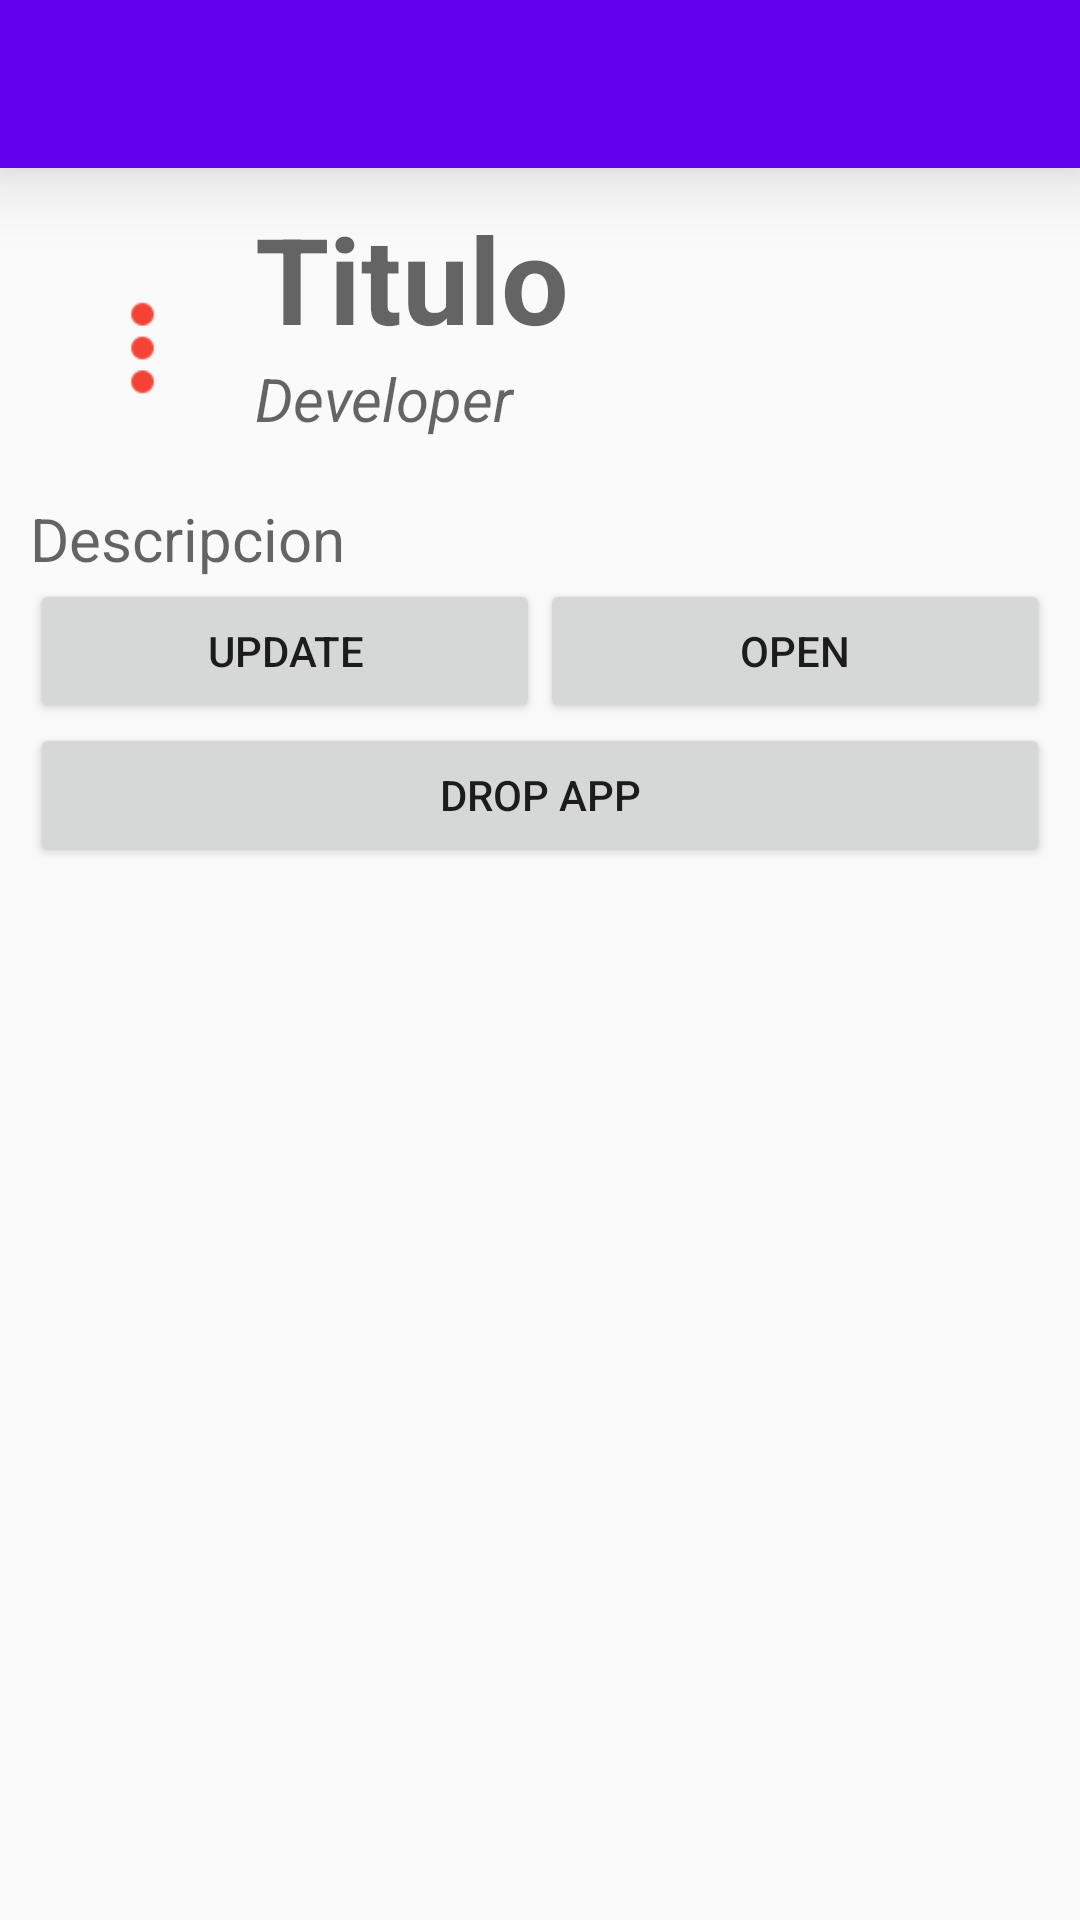

Locate icon controls on the screen. Image size 1080*1920, boxes as (x1, y1, x2, y2).
navigation more vert: (131, 302, 154, 394)
